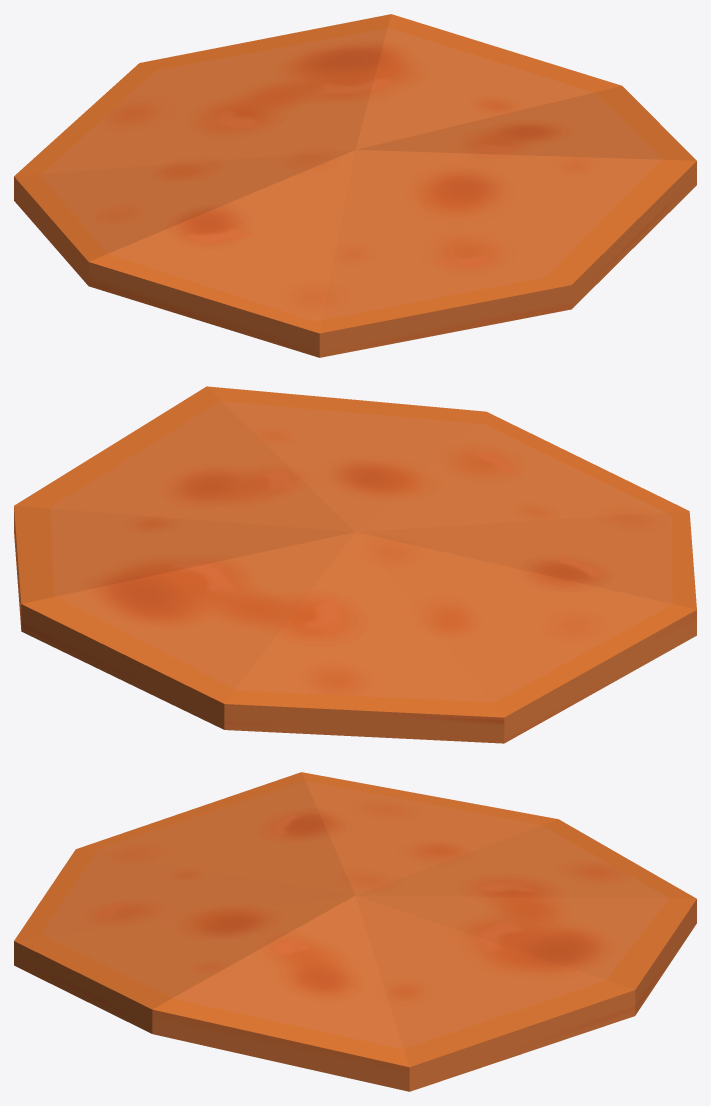
File: TacoSpicy_ani.fbx
3 views of the same model, one above another, from view 1: azimuth 30°, elevation 25°; view 2: azimuth 150°, elevation 25°; view 3: azimuth 270°, elevation 25° (orthographic). The views are drawn at different scales.
Visible parts, largest first — view 1: Cylinder; view 2: Cylinder; view 3: Cylinder.
Boxes of the visible parts, x1,y1,x2,y2 form: Cylinder: [14, 14, 696, 357]; Cylinder: [14, 386, 696, 743]; Cylinder: [14, 772, 696, 1091].
Size of the model in its own units: 198 by 22.55 by 198.
1 material, 1 textured.
